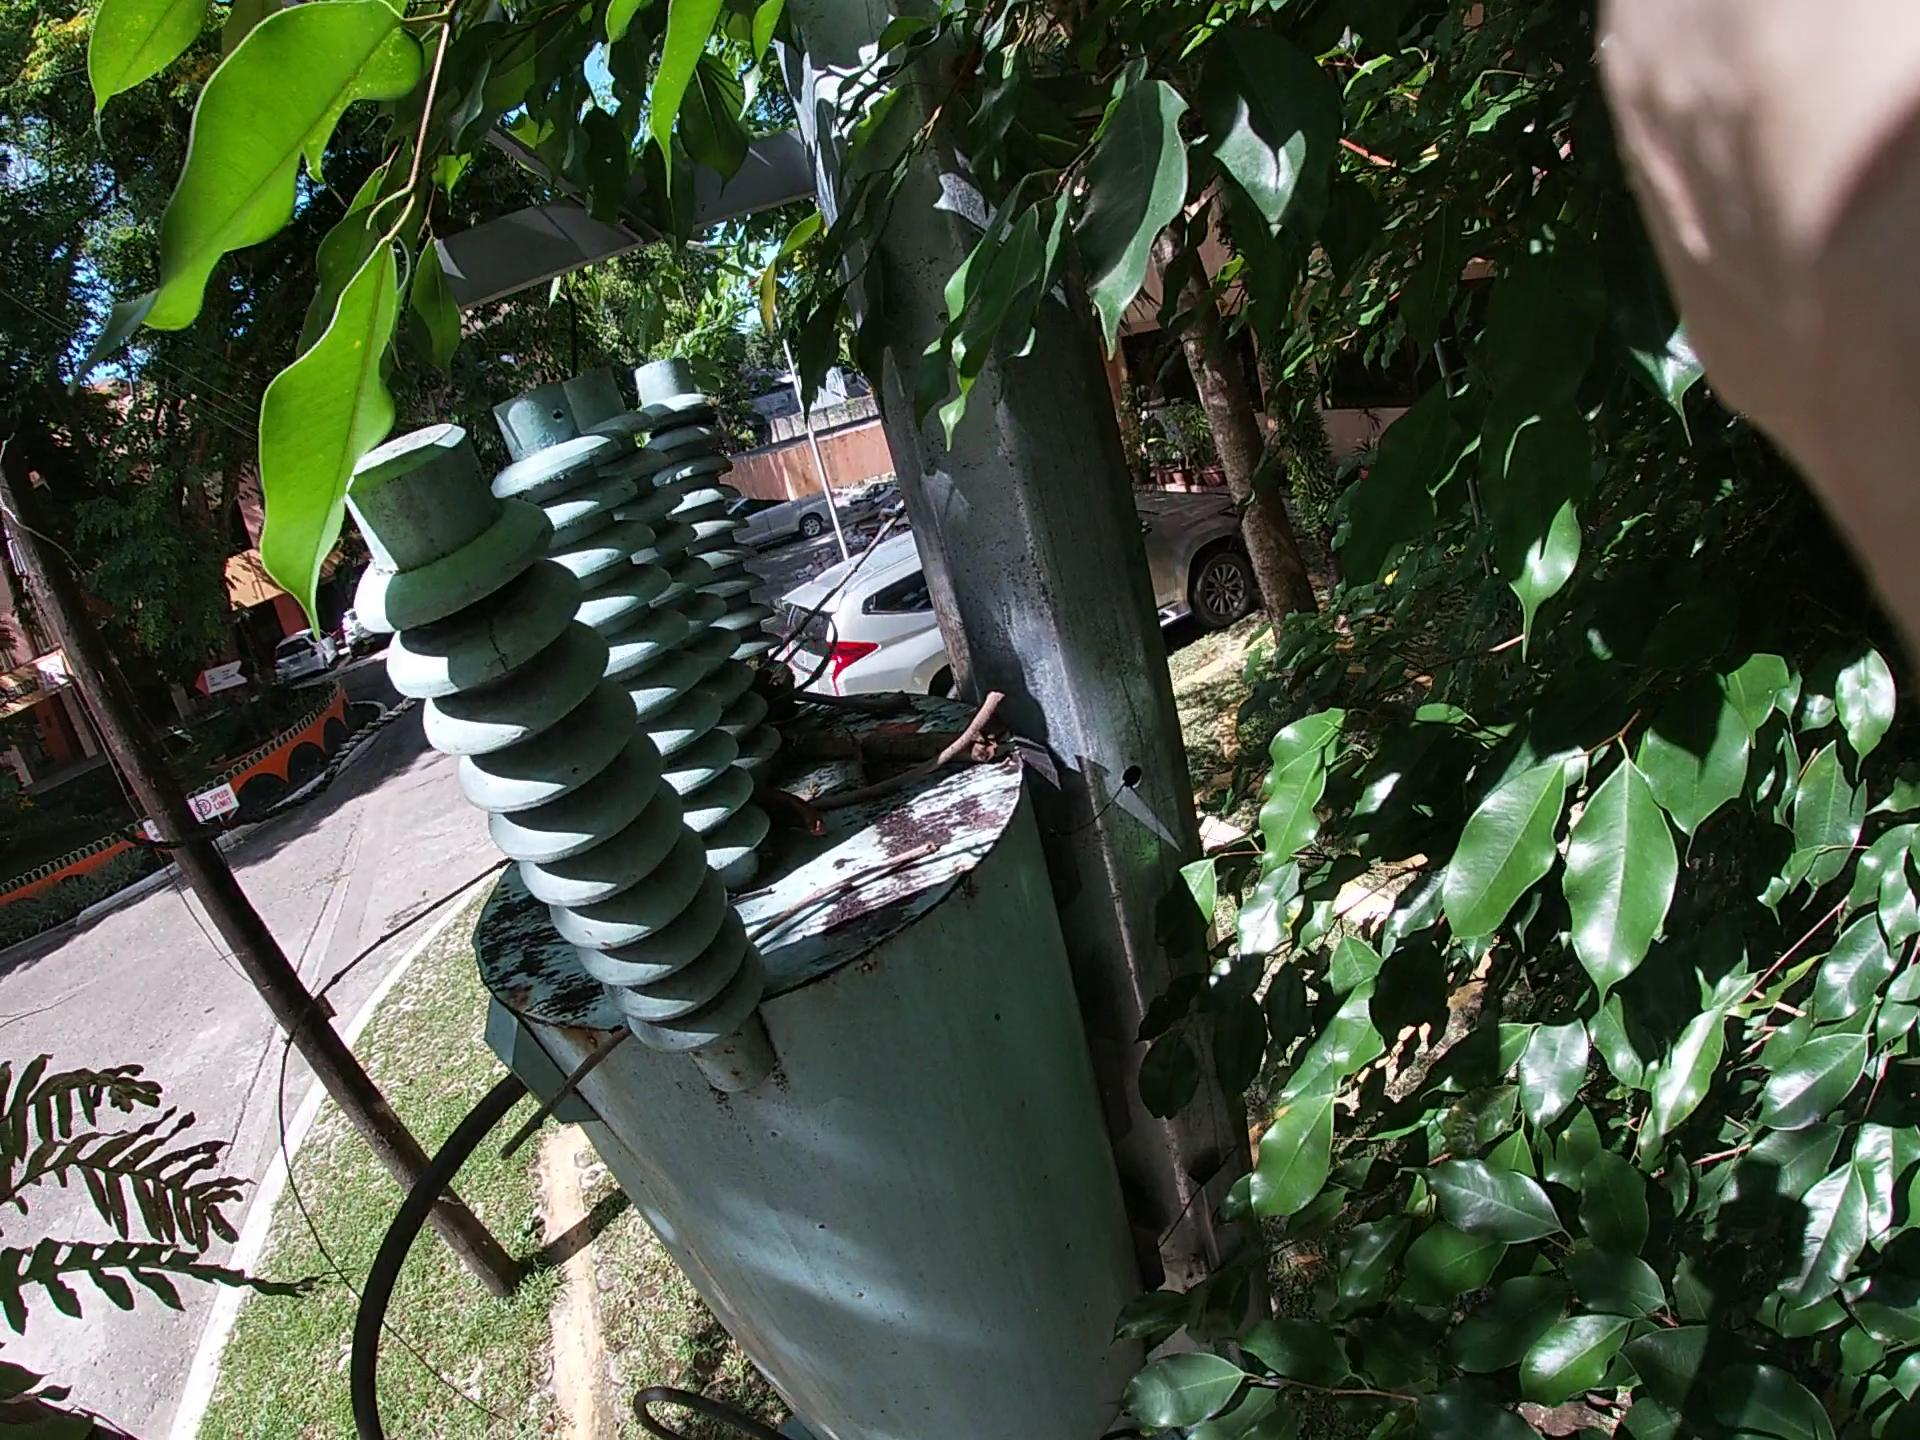branch with leaves: (683, 613, 862, 712)
leaf: (884, 720, 952, 765)
mahogany fruit: (692, 731, 830, 882)
tree branch: (490, 836, 939, 1151), (245, 874, 514, 1177), (810, 684, 1010, 820)
